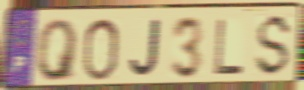3: (171, 14, 206, 81)
J: (127, 17, 162, 80)
L: (213, 17, 245, 76)
O: (80, 16, 121, 83)
Q: (36, 17, 81, 84)
S: (252, 12, 295, 80)
